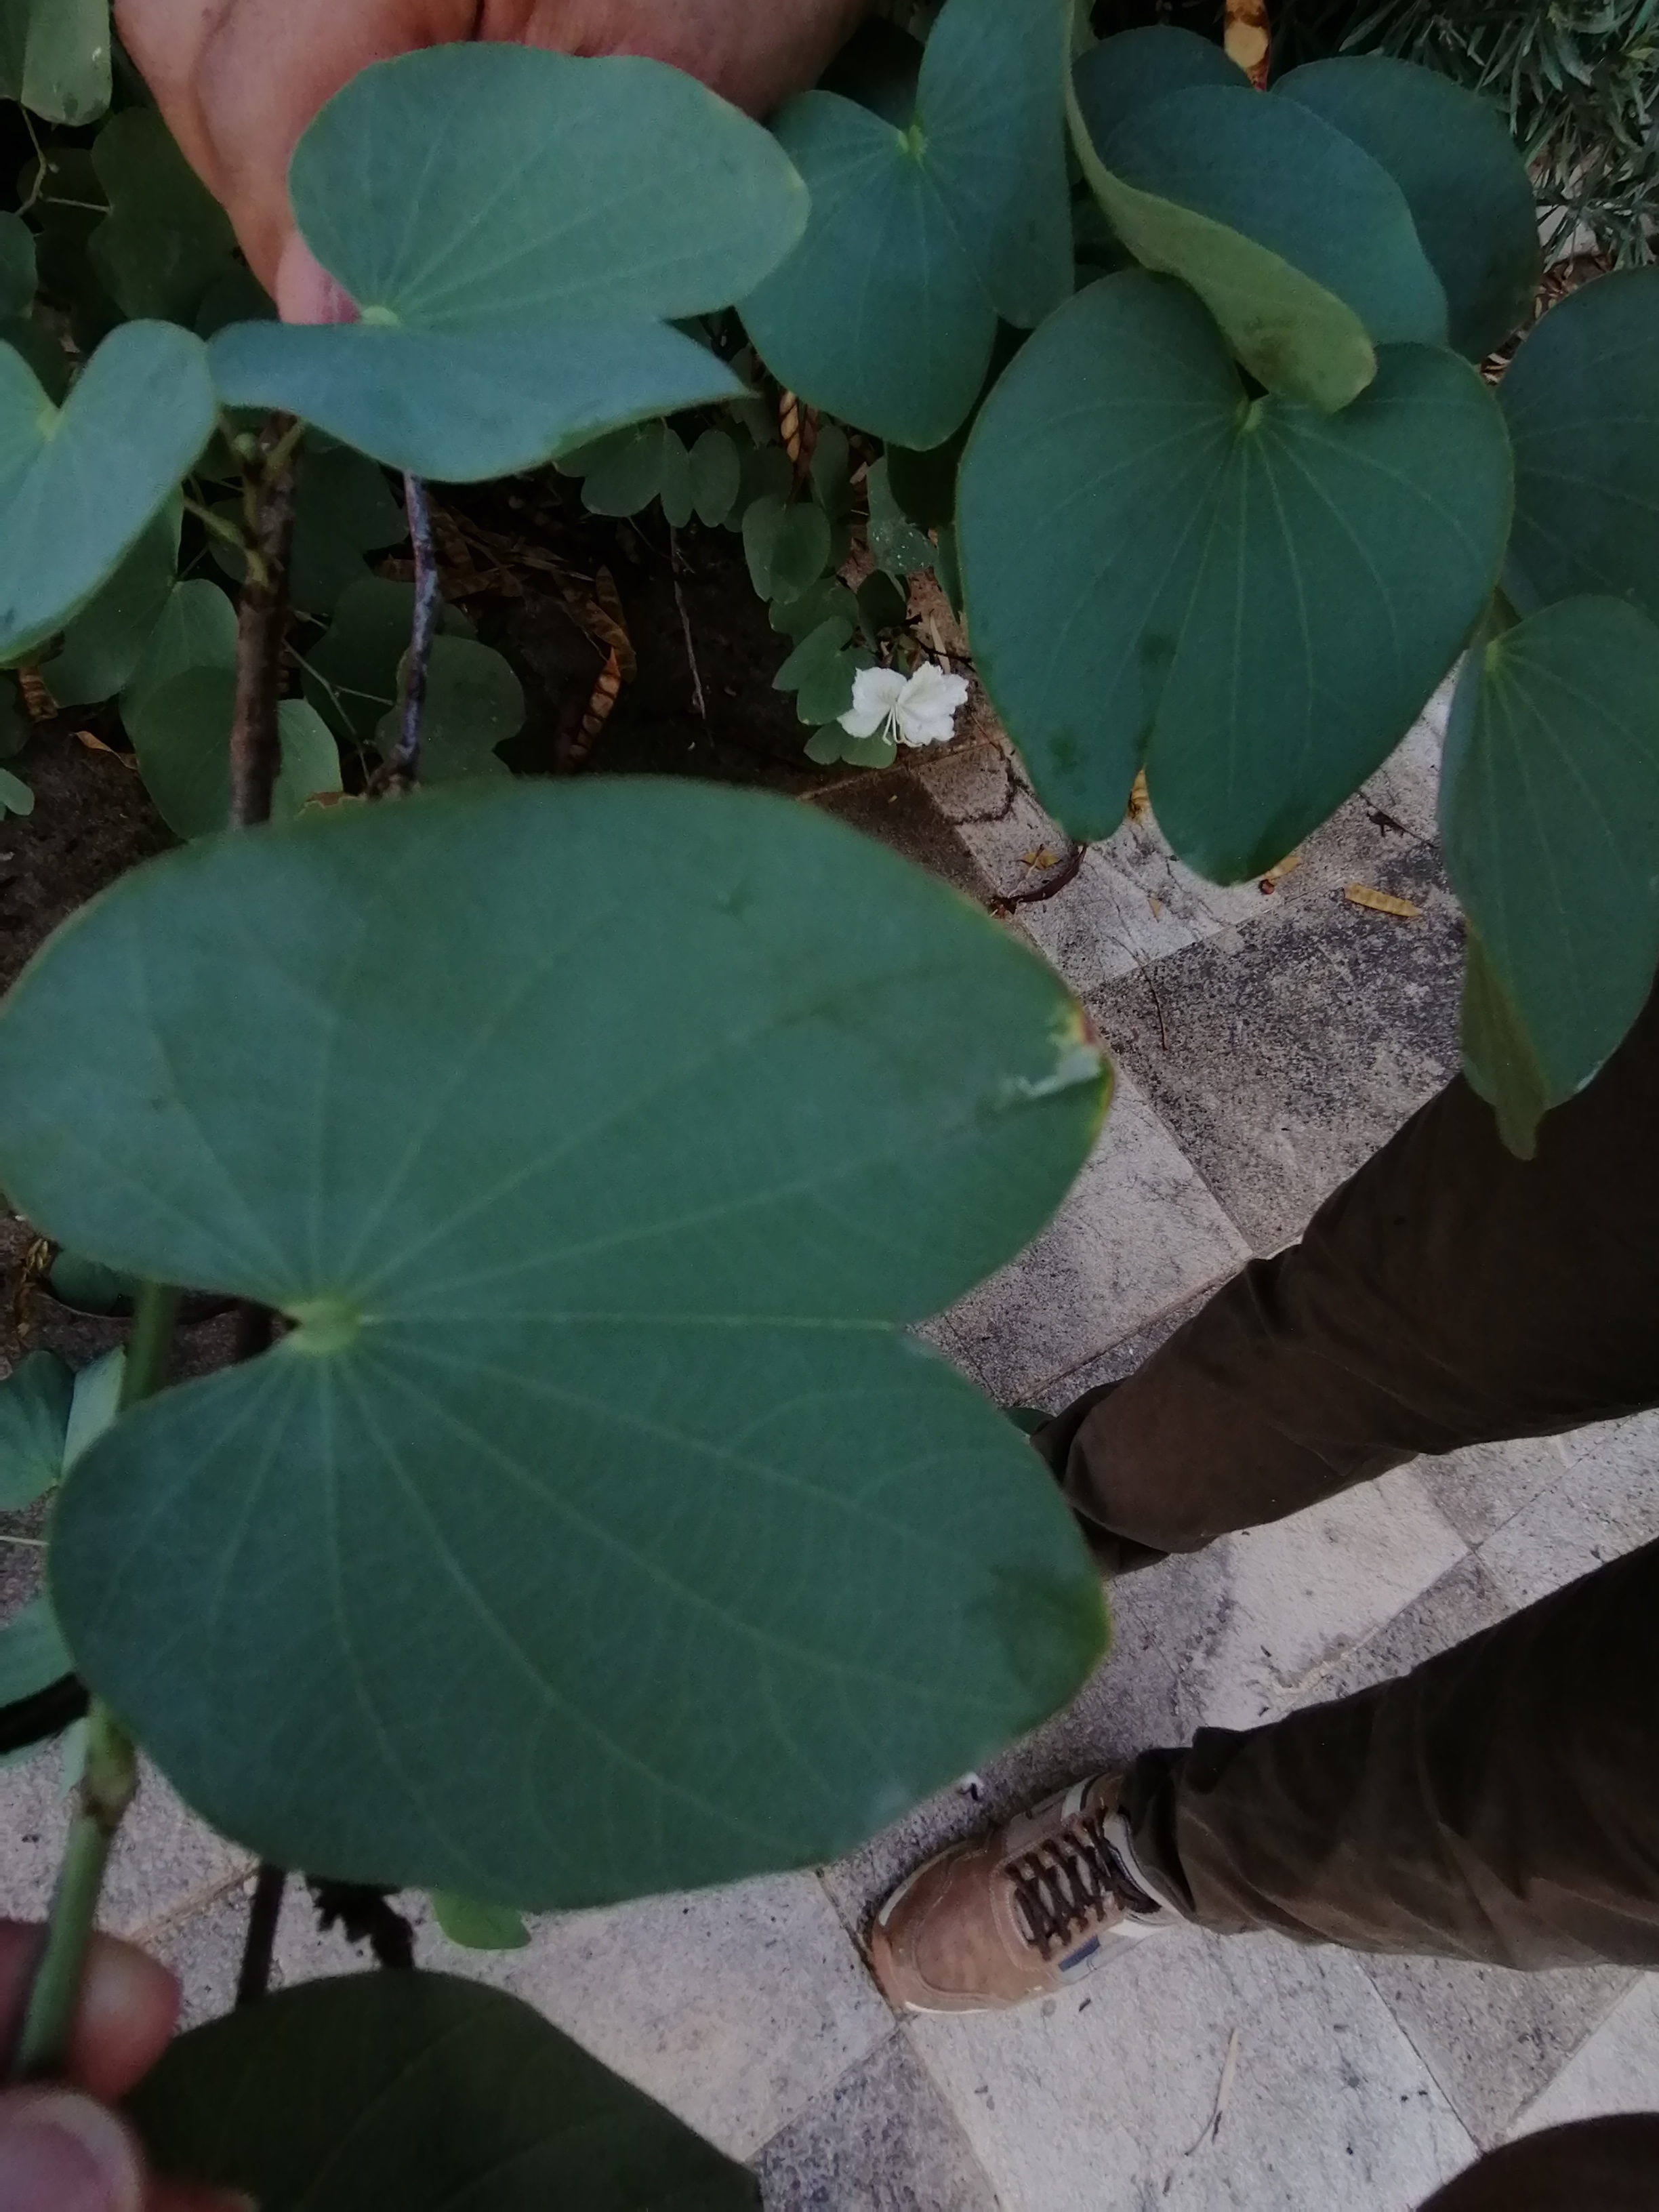healthy: (19, 831, 1100, 1867), (955, 322, 1521, 860), (270, 113, 812, 493)
